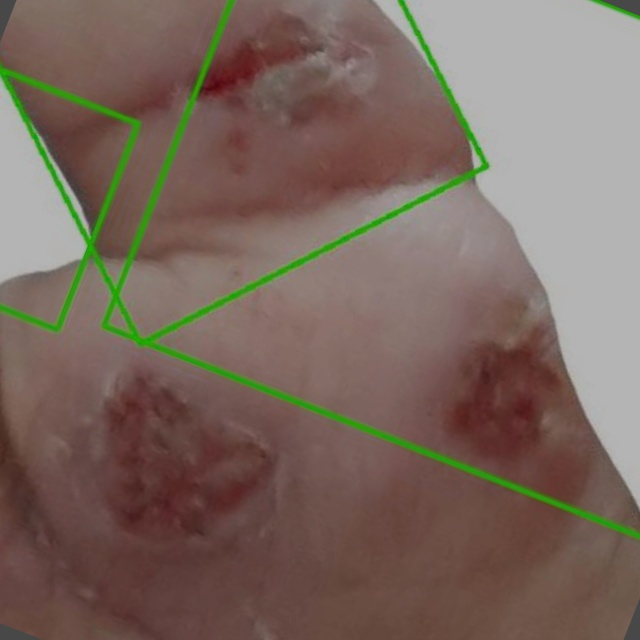Eczema: (103, 0, 639, 536), (0, 0, 486, 366), (0, 69, 138, 329)
